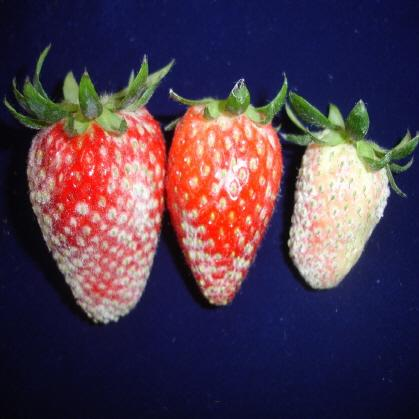Powdery Mildew Fruit: (26, 97, 167, 324), (162, 99, 283, 306), (288, 125, 393, 289)
